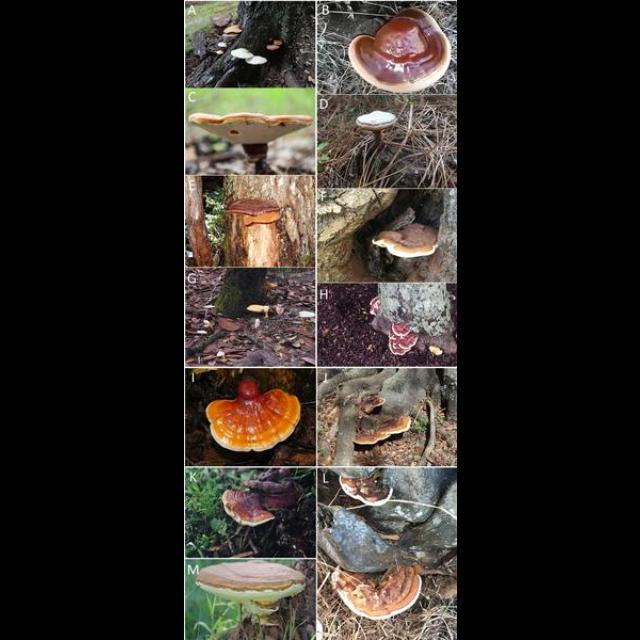ganoderma: (347, 10, 452, 97), (194, 550, 310, 610), (204, 386, 302, 456), (331, 566, 423, 626), (188, 112, 314, 145), (370, 203, 438, 259), (218, 485, 274, 528), (351, 415, 413, 447), (338, 474, 394, 509), (223, 200, 283, 229), (387, 323, 419, 358), (355, 109, 395, 132), (355, 392, 387, 414), (231, 48, 268, 65), (222, 25, 244, 38), (369, 297, 382, 319), (267, 40, 283, 52), (247, 306, 270, 314), (218, 43, 232, 50)
primordium: (429, 345, 443, 357), (298, 311, 316, 320), (203, 320, 213, 330), (216, 352, 226, 361), (197, 331, 209, 336), (203, 306, 215, 311), (215, 51, 225, 56)
